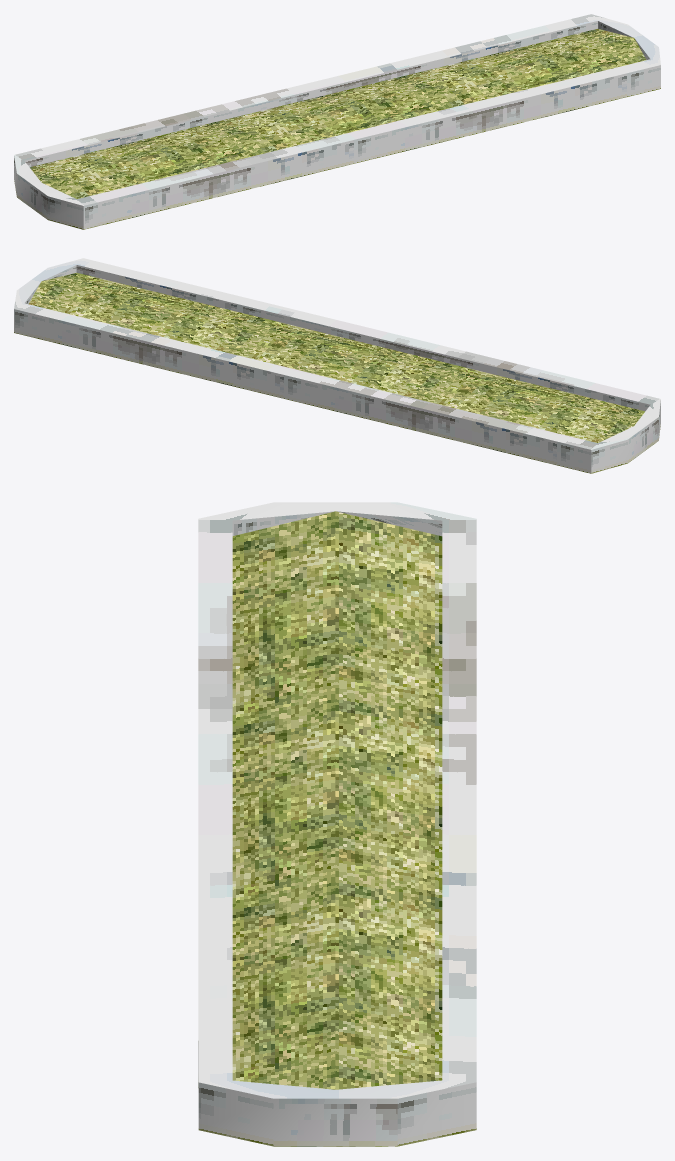
Rendered from Environment - Prop - Mdn GRS 01 - PMMdnGRS01.glb.
3 renders of one model, top to bottom at view 1: azimuth 30°, elevation 25°; view 2: azimuth 150°, elevation 25°; view 3: azimuth 270°, elevation 25°, orthographic. The views are drawn at different scales.
Parts seen in each view (by area): view 1: PMMDNGRS01; view 2: PMMDNGRS01; view 3: PMMDNGRS01.
Boxes of the visible parts, <box> form: PMMDNGRS01: <box>14,14,660,229</box>; PMMDNGRS01: <box>14,258,660,473</box>; PMMDNGRS01: <box>198,502,476,1146</box>.
Bounding box in the file's own units: 63.89 × 2.39 × 12.6.
1 material, 1 textured.
